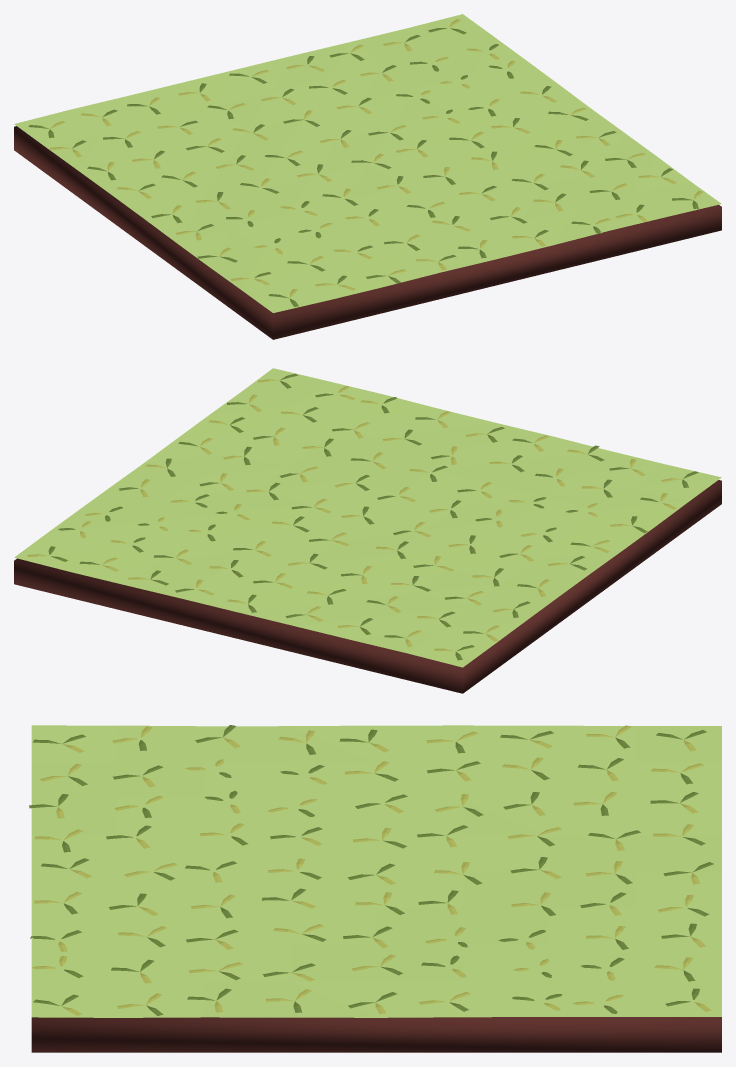
File: paddy_field.glb
The picture shows the model from 3 angles, top to bottom: view 1: azimuth 30°, elevation 25°; view 2: azimuth 150°, elevation 25°; view 3: azimuth 270°, elevation 25°; orthographic projection. The views are drawn at different scales.
Parts seen in each view (by area): view 1: main__paddy_water_flat, main__paddy_mud, main__rice_mid_flat, main__rice_light_flat; view 2: main__paddy_water_flat, main__paddy_mud, main__rice_mid_flat, main__rice_light_flat; view 3: main__paddy_water_flat, main__paddy_mud, main__rice_mid_flat, main__rice_light_flat.
Boxes of the visible parts, x1,y1,x2,y2 form: main__paddy_water_flat: (14,14,721,312); main__paddy_mud: (14,126,721,339); main__rice_mid_flat: (28,28,698,306); main__rice_light_flat: (50,19,703,297); main__paddy_water_flat: (14,368,721,667); main__paddy_mud: (14,480,721,693); main__rice_mid_flat: (48,373,698,660); main__rice_light_flat: (27,379,681,651); main__paddy_water_flat: (31,725,721,1017); main__paddy_mud: (31,1017,721,1052); main__rice_mid_flat: (29,725,713,1015); main__rice_light_flat: (32,725,711,1015).
Bounding box in the file's own units: 8.27 × 0.4705 × 8.21.
